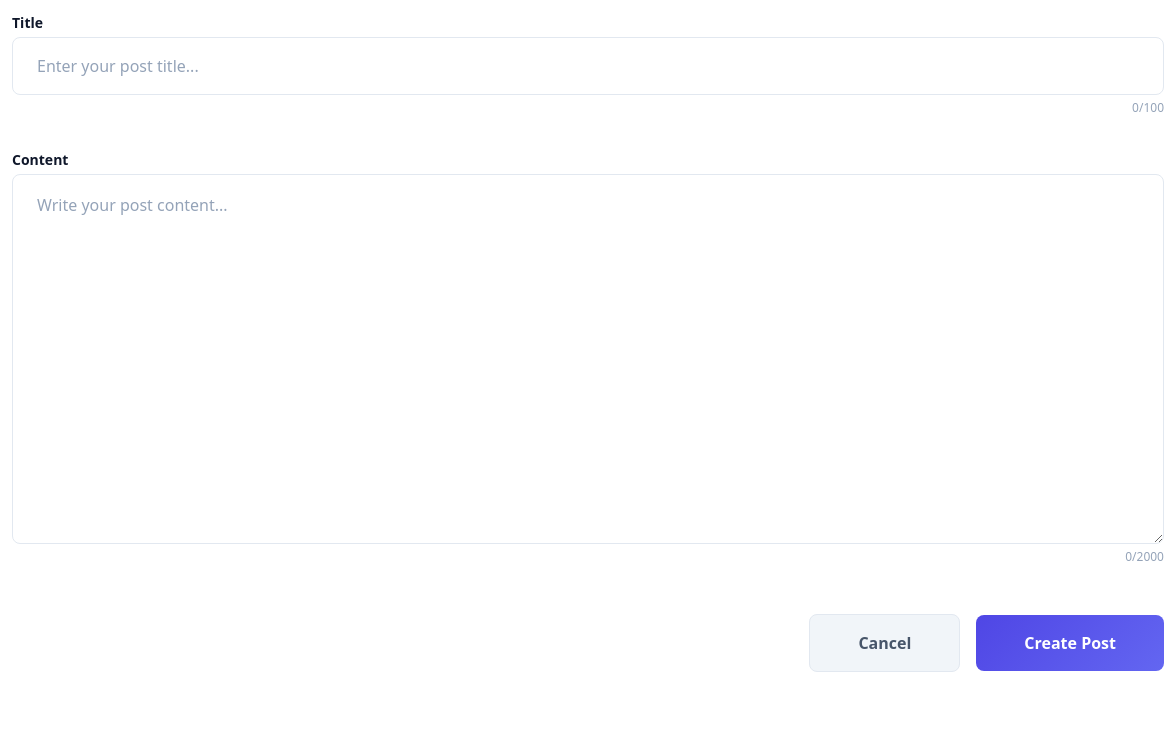
Test: BlogForm › validation › shows errors for both fields when both are empty on submit
The width and height of the screenshot is (1176, 732).
Click the button "Create Post" at (1070, 643), box [976,615,1164,671]
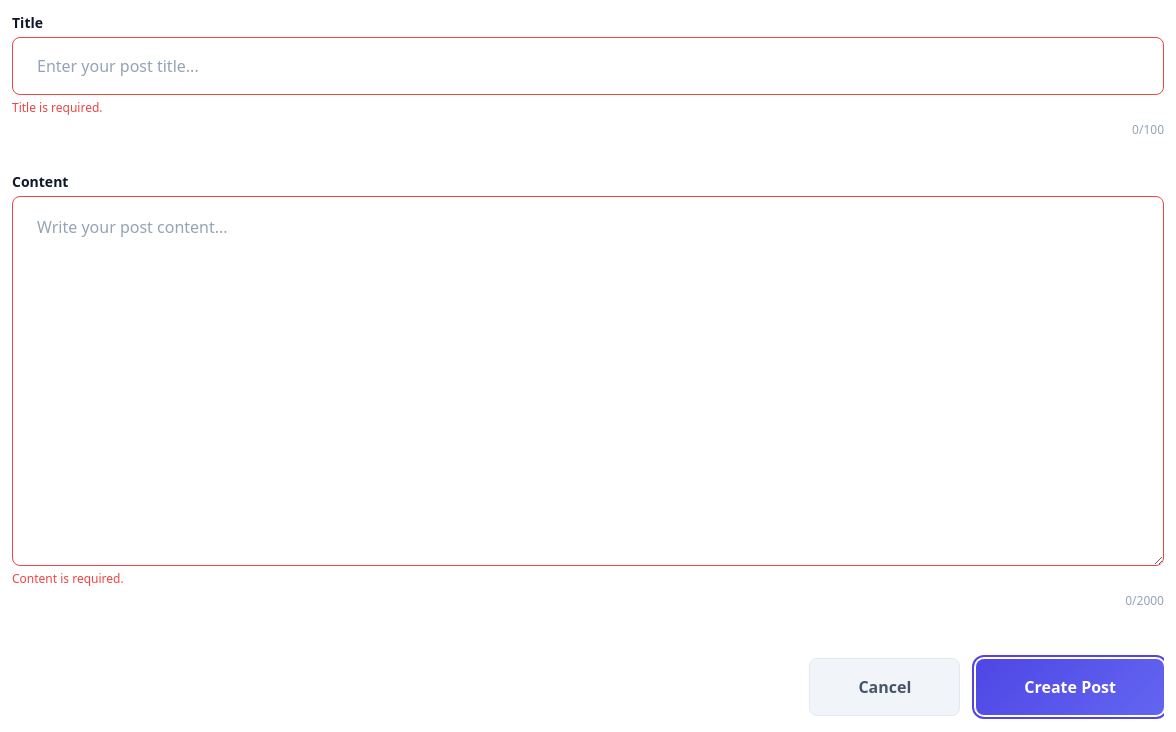
expect the text "Title is required." is shown: met, box [12,99,102,116]
expect the text "Content is required." is shown: met, box [12,570,124,587]
